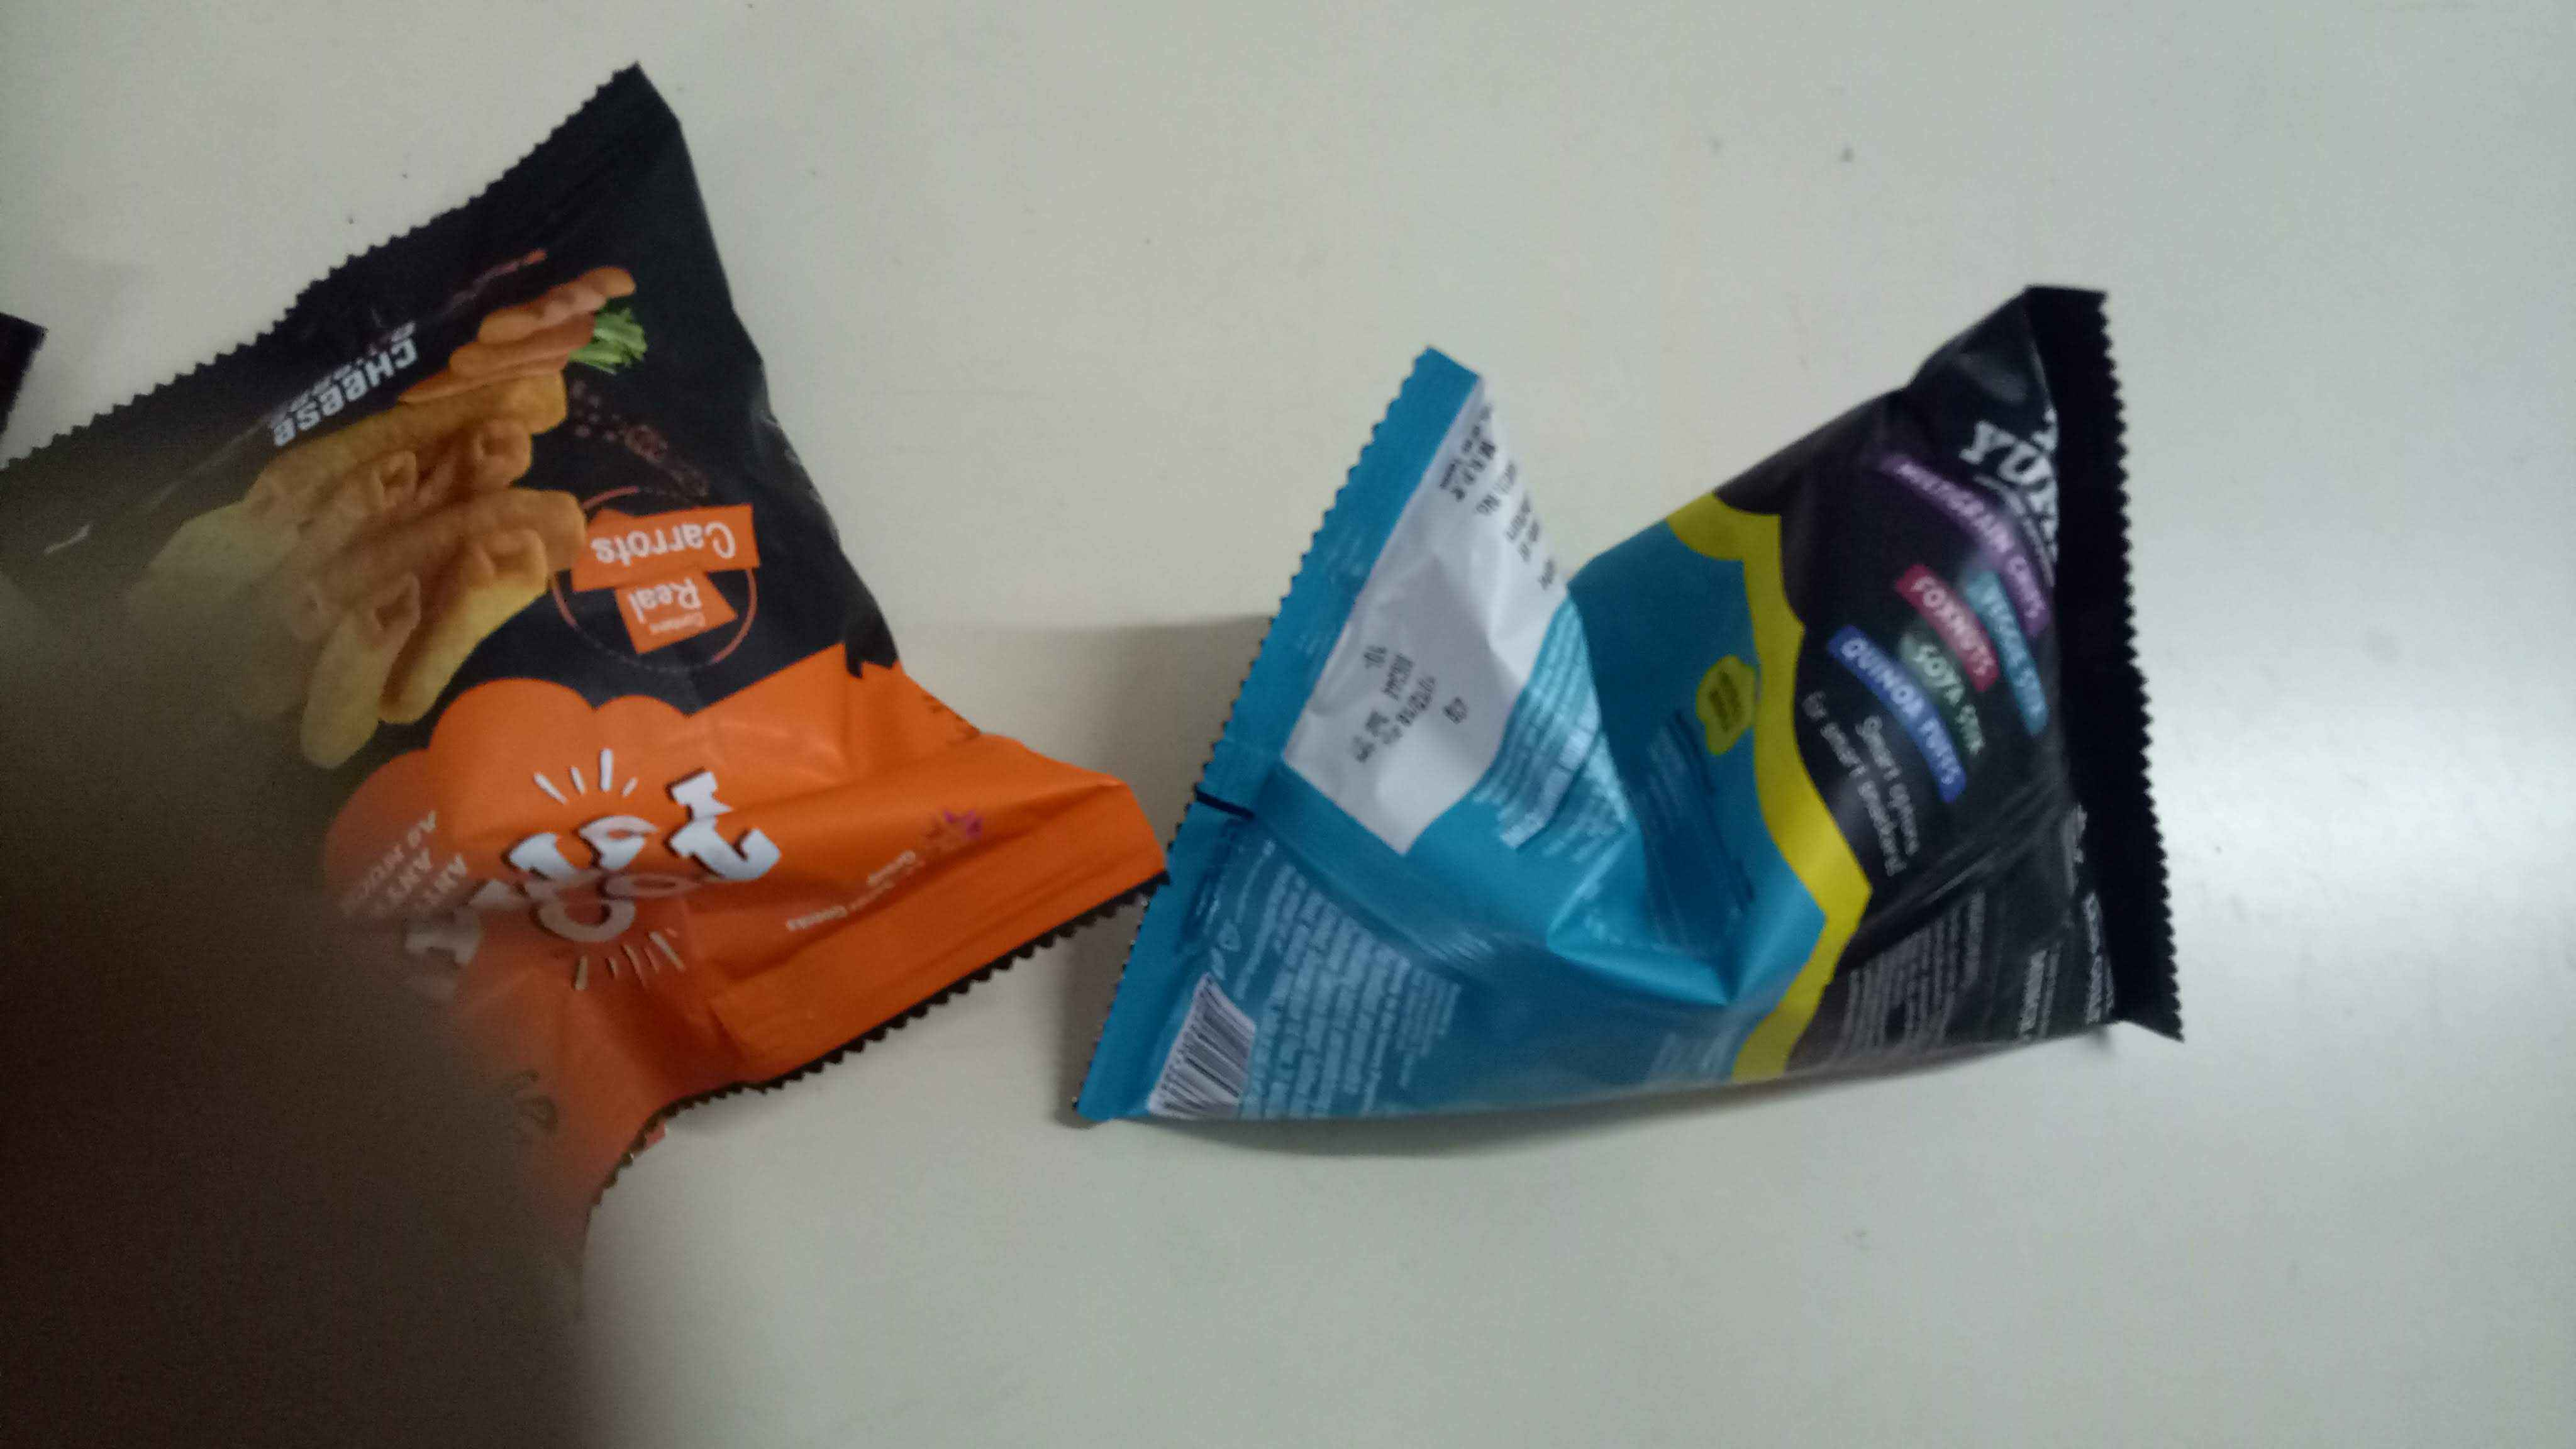tooyumm: (472, 745, 786, 1035), (1944, 363, 2093, 586)
